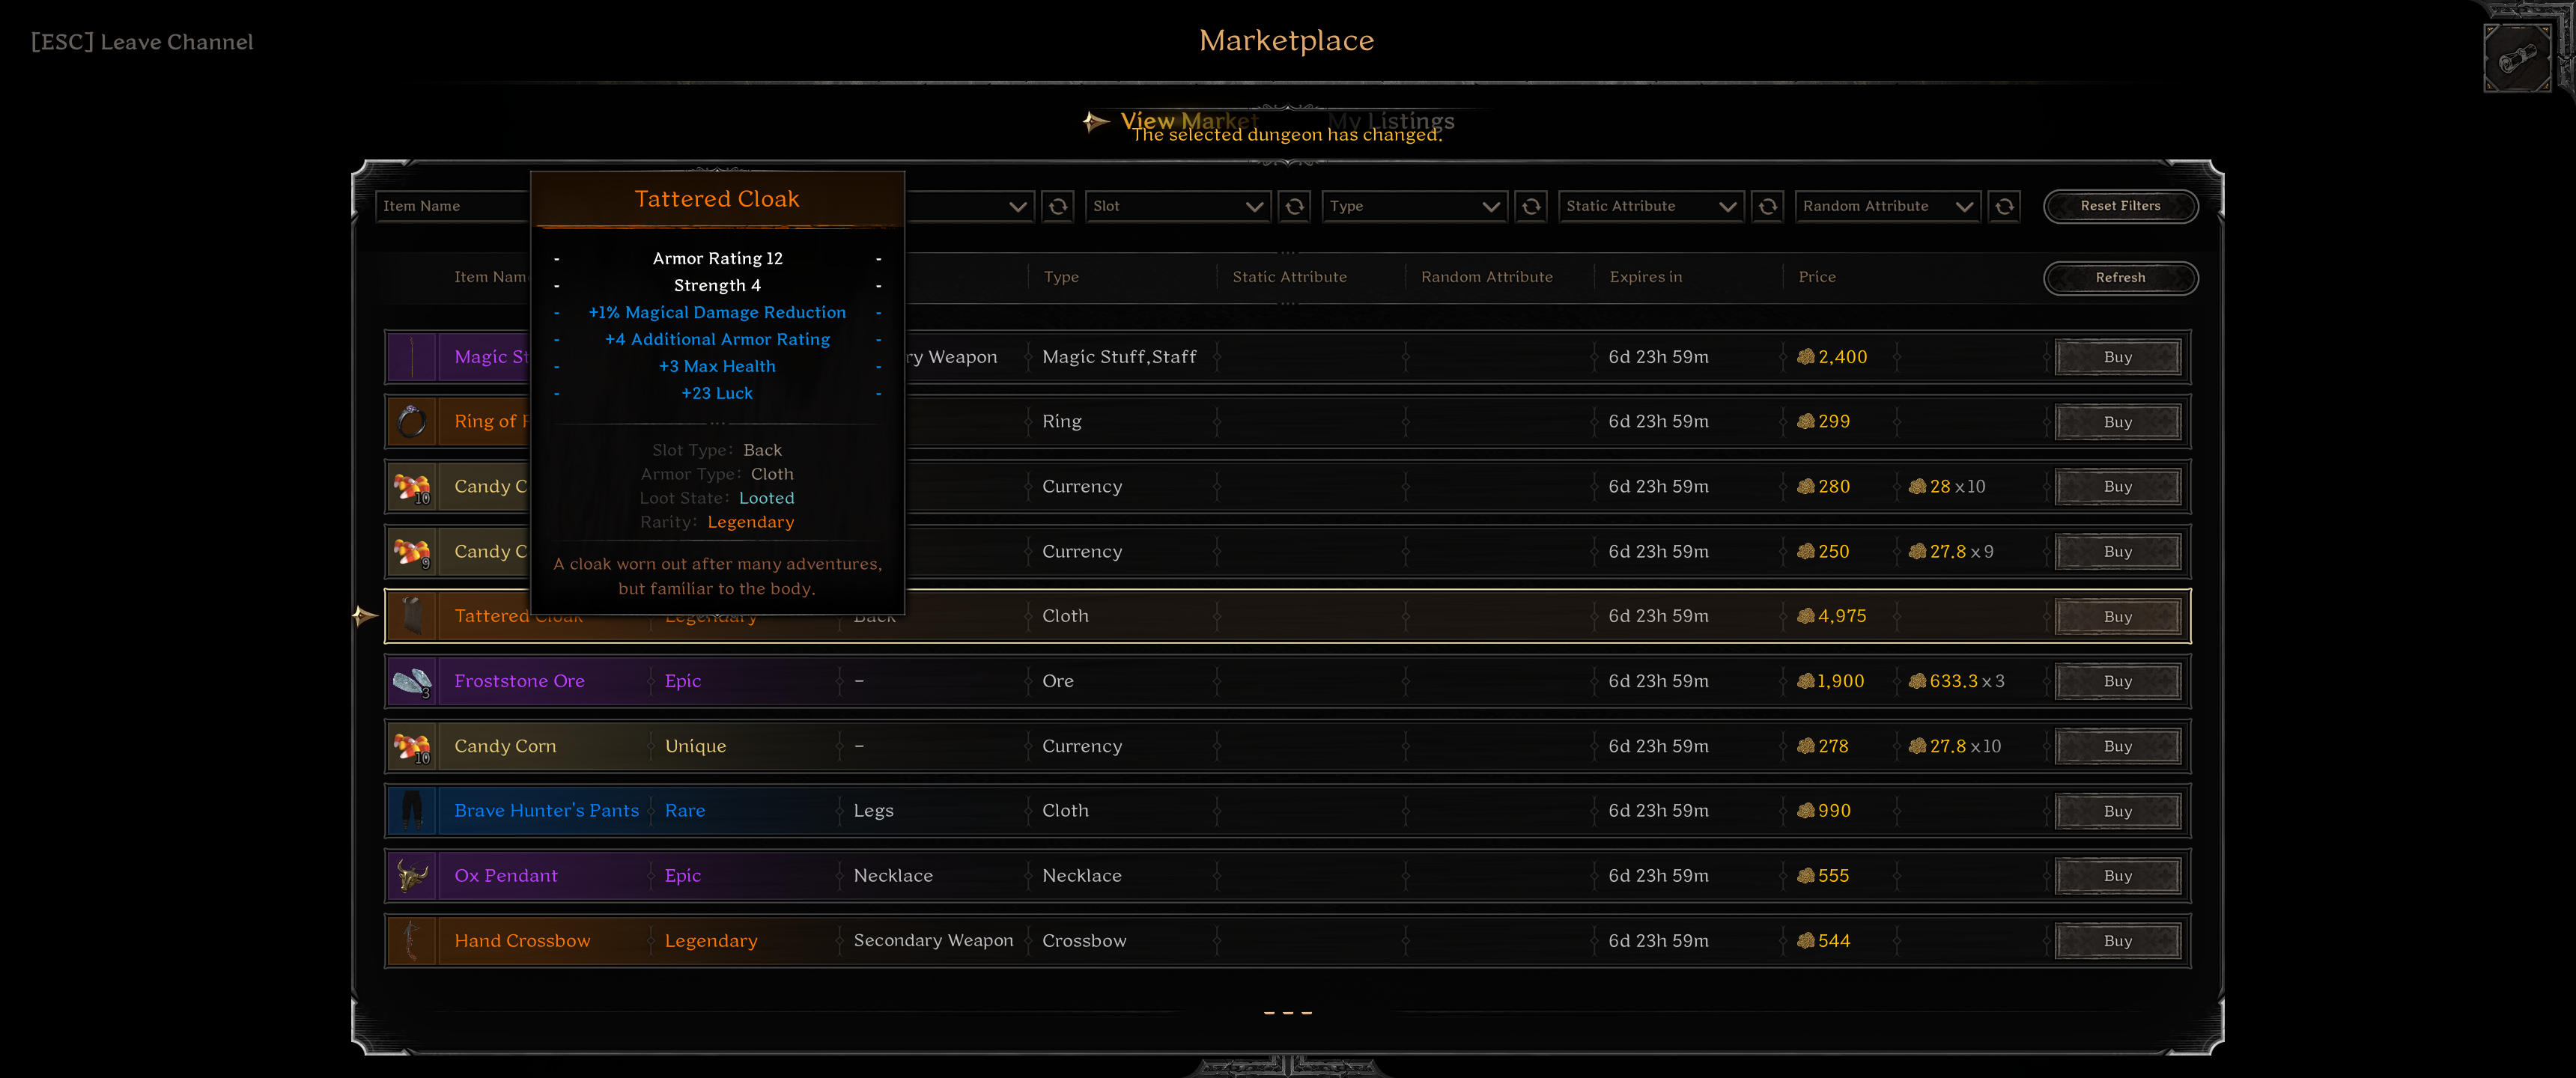Tooltip: (529, 168, 907, 618)
